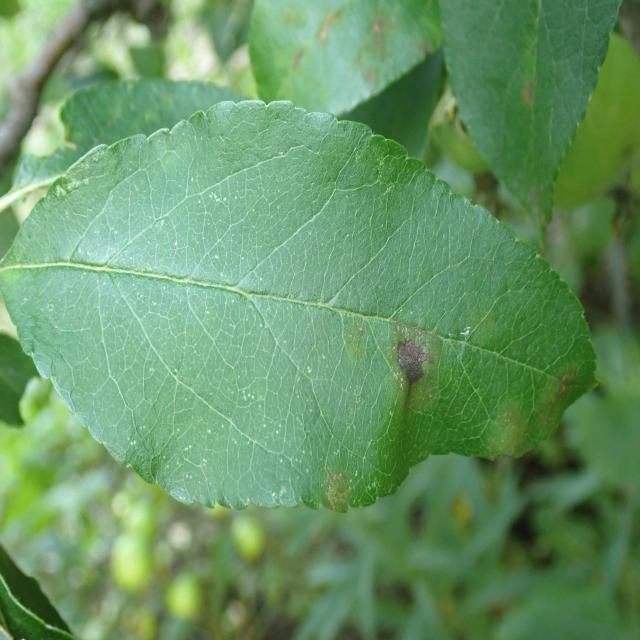scab: (235, 218, 640, 573), (218, 0, 516, 199)
